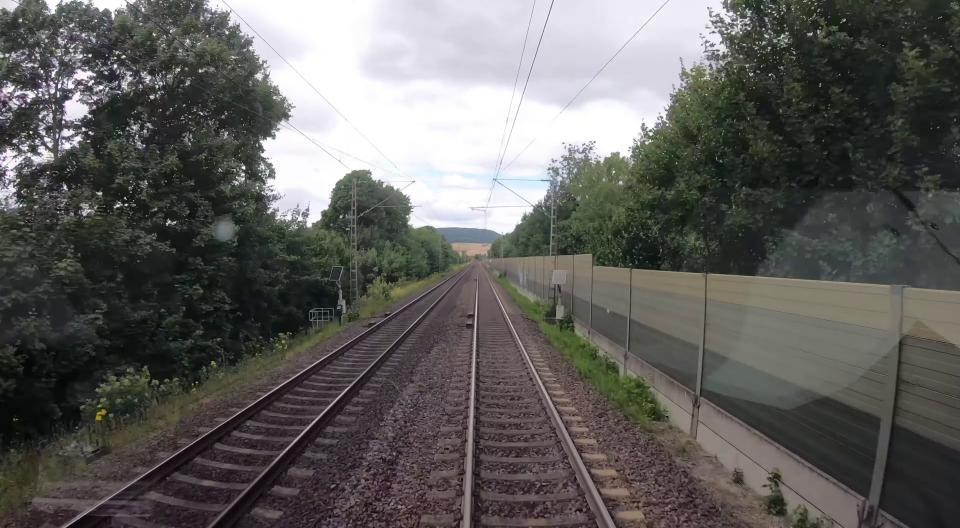Plant: (500, 280, 667, 429), (764, 471, 788, 516), (791, 505, 826, 528), (731, 468, 744, 486)
